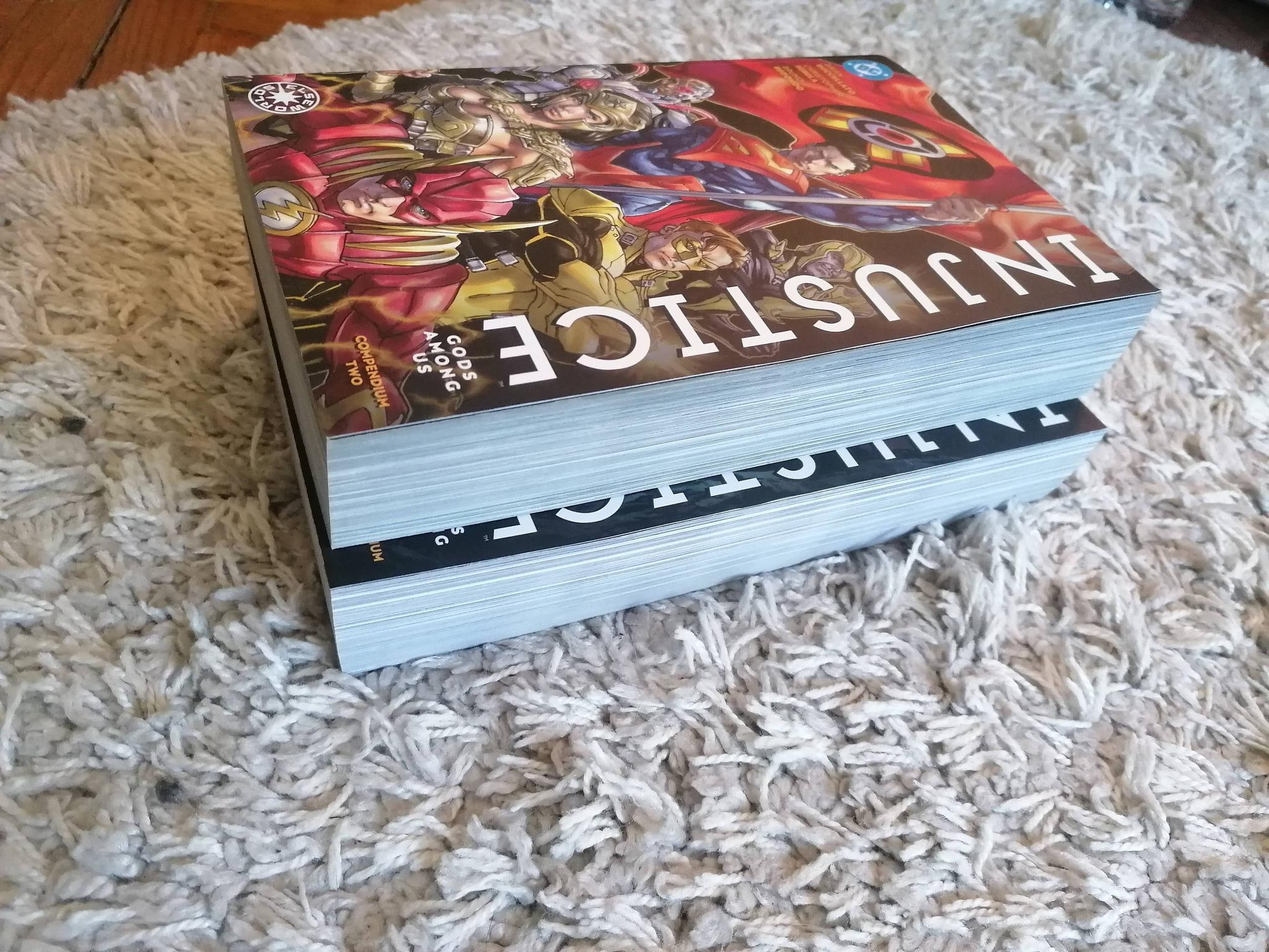comic: (223, 0, 1153, 451)
